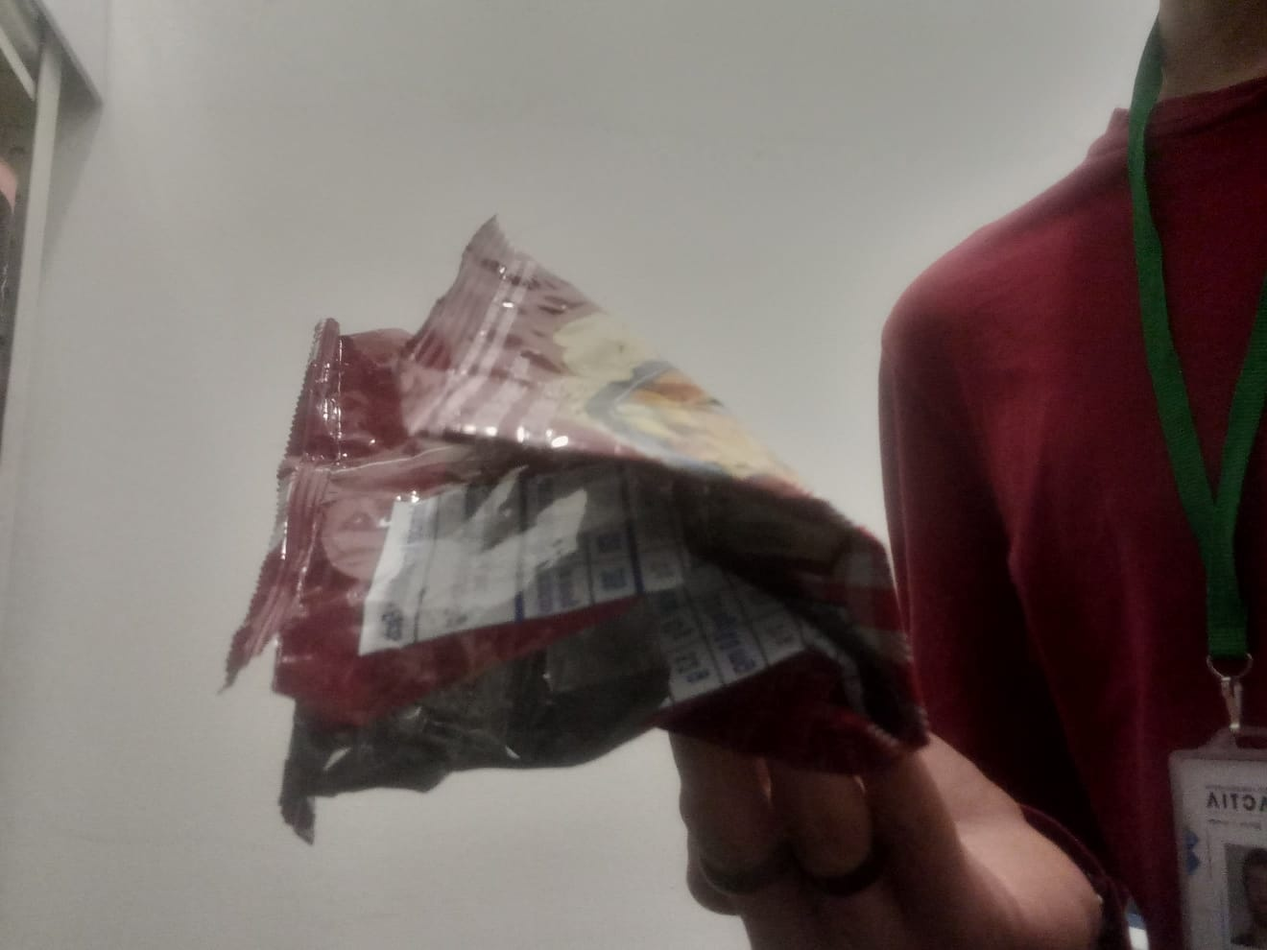Ordinario: (220, 215, 933, 843)
